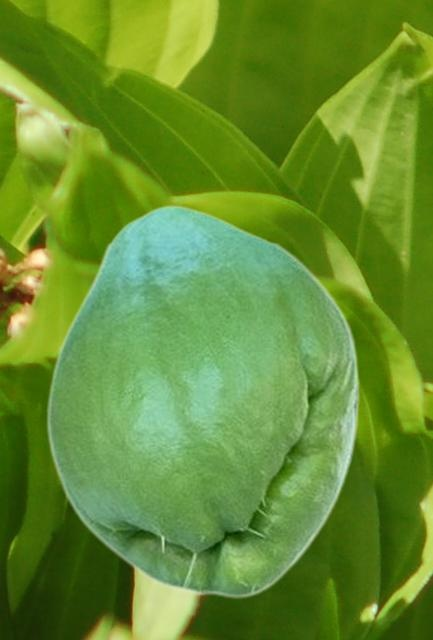sayote: (45, 205, 359, 599)
